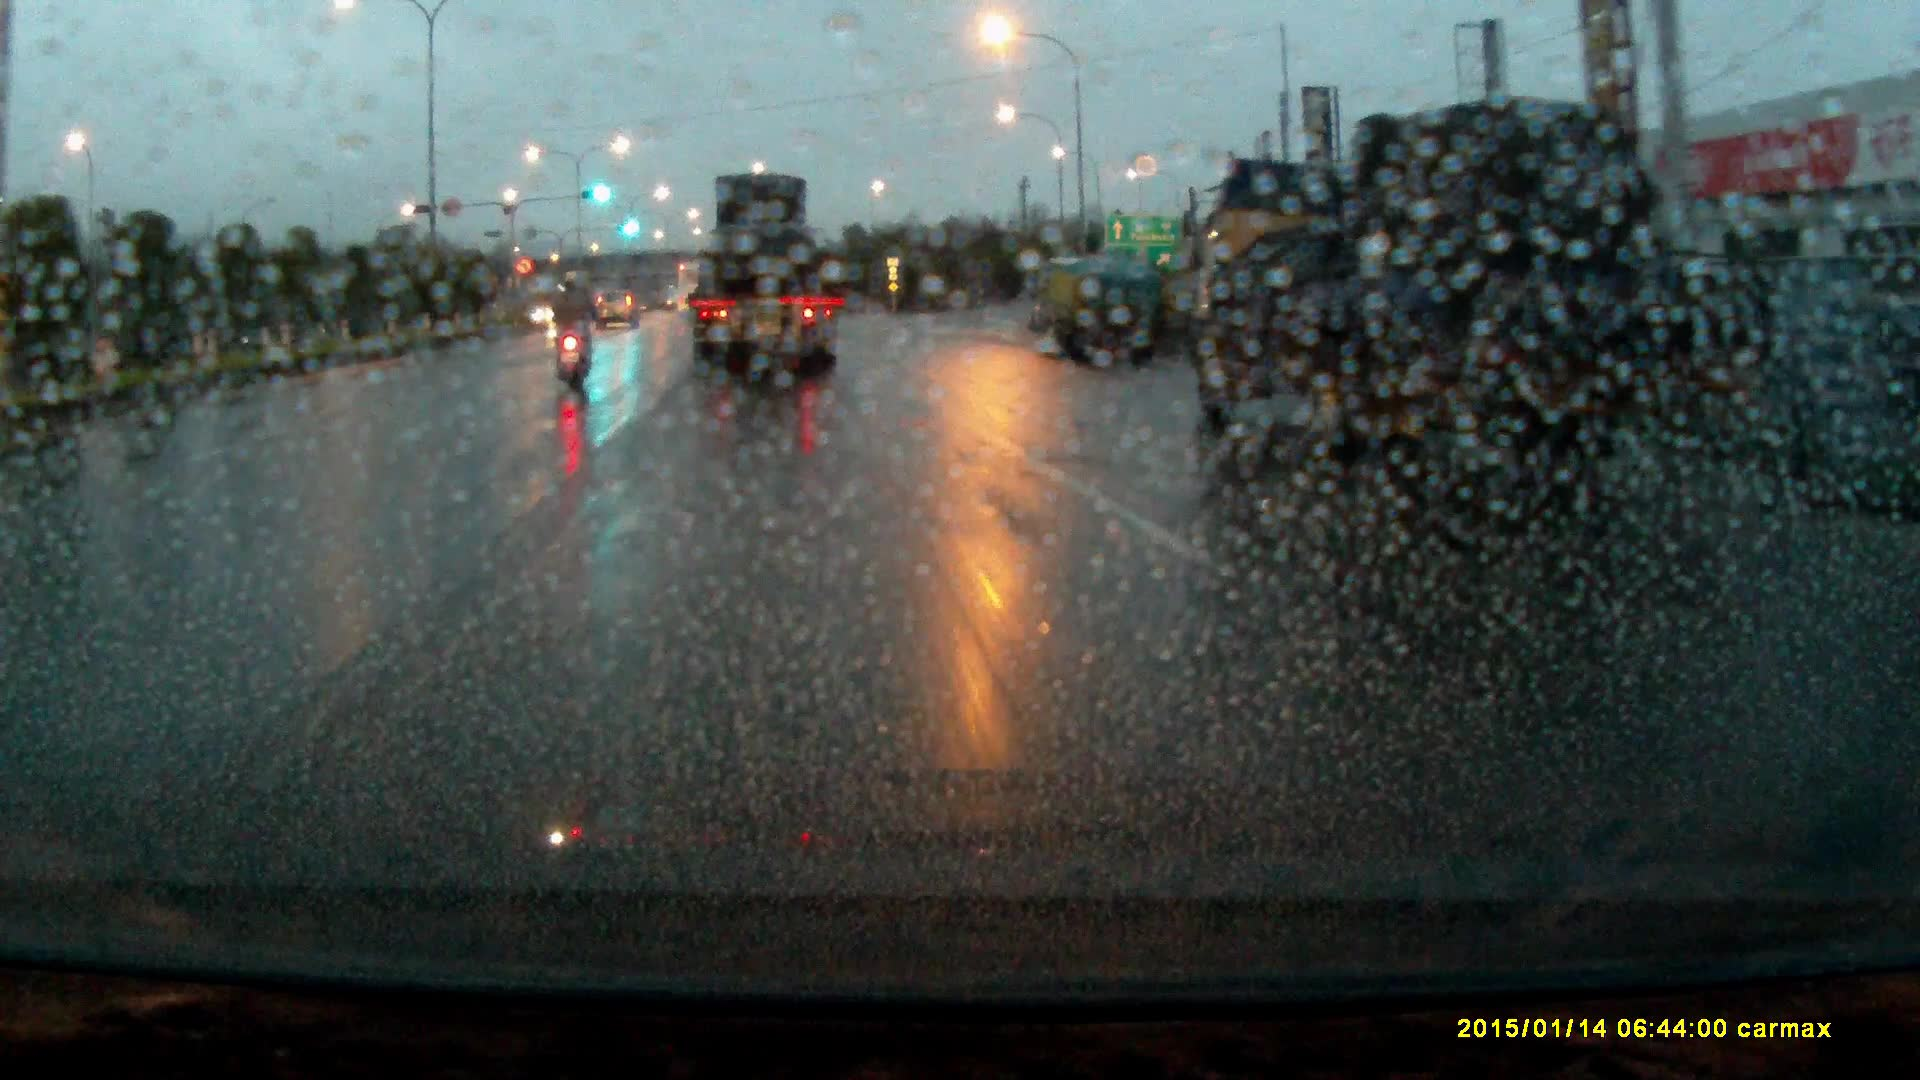rider: (549, 272, 601, 401)
vehicle: (1198, 101, 1739, 501), (684, 172, 842, 384), (1020, 262, 1169, 362), (598, 291, 643, 335), (676, 263, 703, 315)
